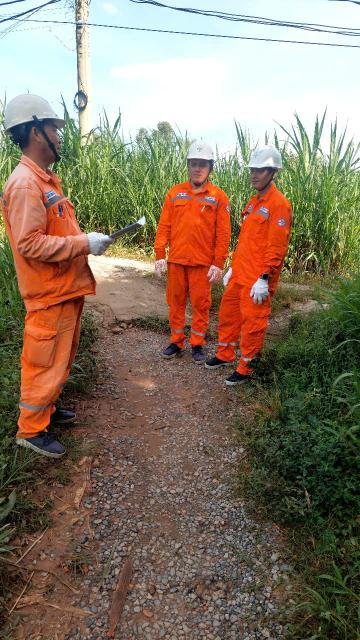gloves: (85, 228, 115, 262), (249, 276, 271, 306), (149, 257, 171, 280), (220, 262, 238, 289), (206, 265, 224, 287)
helmet: (0, 90, 70, 134), (242, 143, 288, 174), (185, 136, 218, 167)
shoes: (15, 422, 71, 461), (37, 401, 82, 427), (159, 333, 184, 363), (223, 367, 251, 386), (203, 352, 235, 368), (190, 343, 206, 366)
